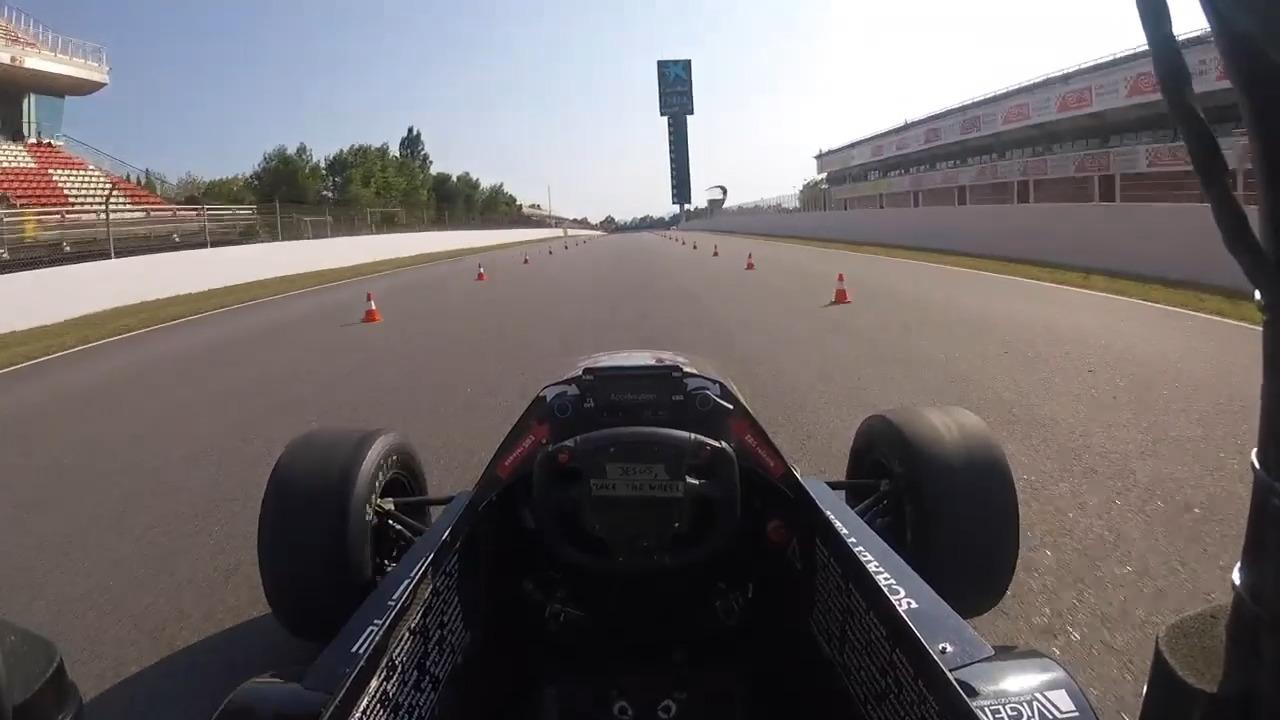orange_cone: (359, 291, 384, 324), (830, 273, 852, 306), (475, 262, 487, 281), (746, 252, 757, 271)
